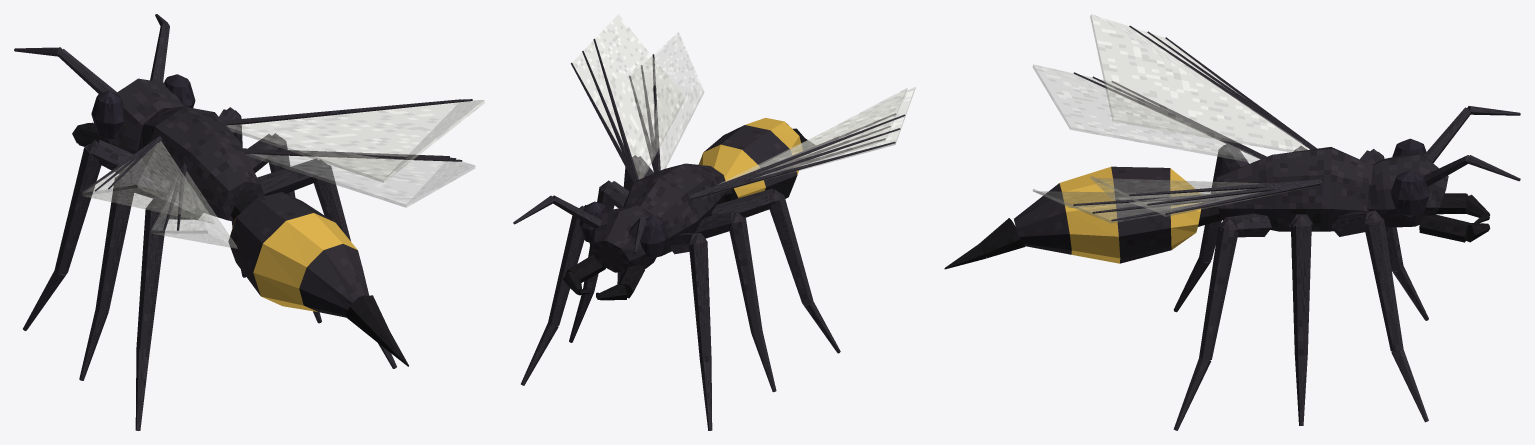
The model's file is mon_wasp_small.glb.
3 views of the same model, side by side, from view 1: azimuth 30°, elevation 25°; view 2: azimuth 150°, elevation 25°; view 3: azimuth 270°, elevation 25° (orthographic). The views are drawn at different scales.
Visible parts, largest first — view 1: closed_body, glazing; view 2: closed_body, glazing; view 3: closed_body, glazing.
Boxes of the visible parts, x1=… form: closed_body: x1=14, y1=14, x2=472, y2=430; glazing: x1=82, y1=100, x2=484, y2=248; closed_body: x1=513, y1=38, x2=905, y2=430; glazing: x1=572, y1=14, x2=915, y2=193; closed_body: x1=944, y1=25, x2=1520, y2=430; glazing: x1=1032, y1=14, x2=1310, y2=223.
Bounding box in the file's own units: 0.8869 × 0.6472 × 1.22.
Materials: 2 (2 with a texture image).
